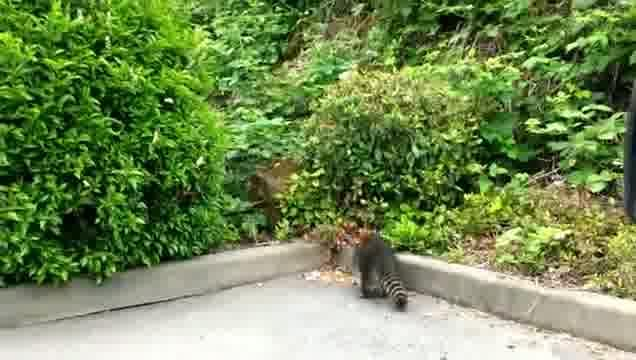raccoon: (350, 232, 415, 313)
